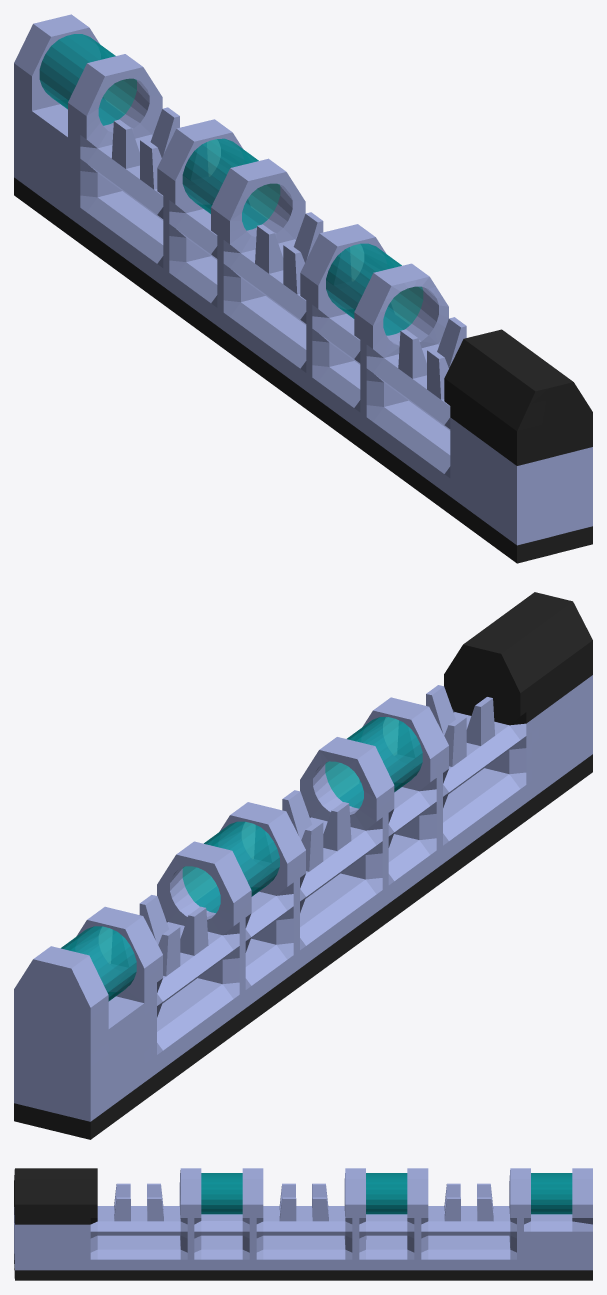
The model's file is Reactor.fbx.
The picture shows the model from 3 angles, top to bottom: view 1: azimuth 30°, elevation 25°; view 2: azimuth 150°, elevation 25°; view 3: azimuth 270°, elevation 25°; orthographic projection. The views are drawn at different scales.
Visible parts, largest first — view 1: Reactor; view 2: Reactor; view 3: Reactor.
Boxes of the visible parts, x1,y1,x2,y2 form: Reactor: [14, 14, 592, 563]; Reactor: [14, 592, 592, 1139]; Reactor: [14, 1168, 592, 1280].
Bounding box in the file's own units: 251 × 522 × 2852.
